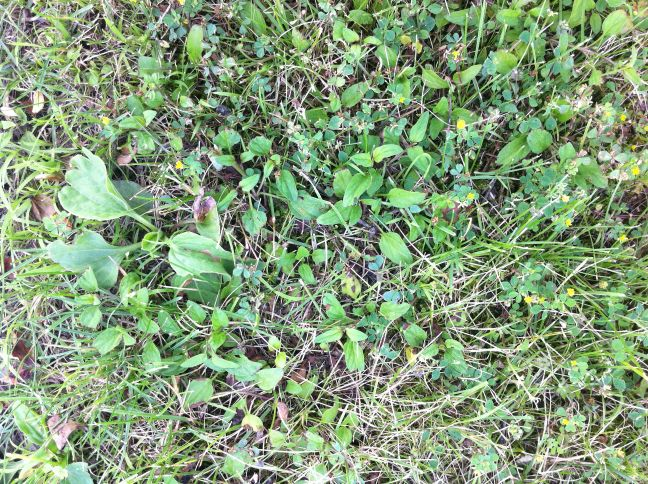weed1: (47, 145, 255, 313)
